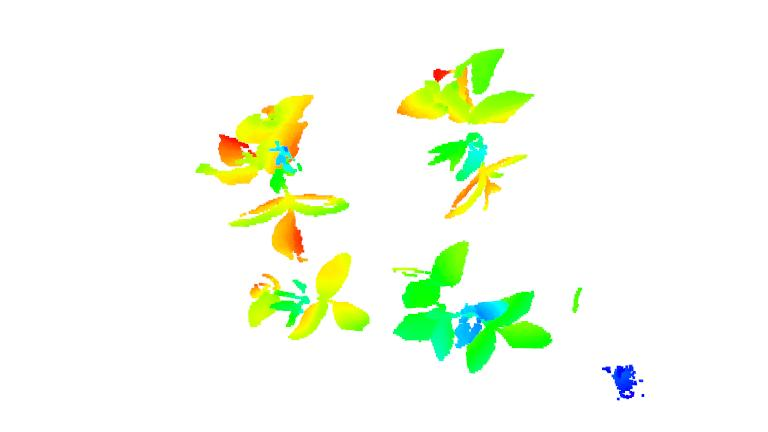mungbean: (198, 86, 354, 257), (396, 46, 537, 221), (391, 241, 554, 378), (246, 254, 371, 346)
